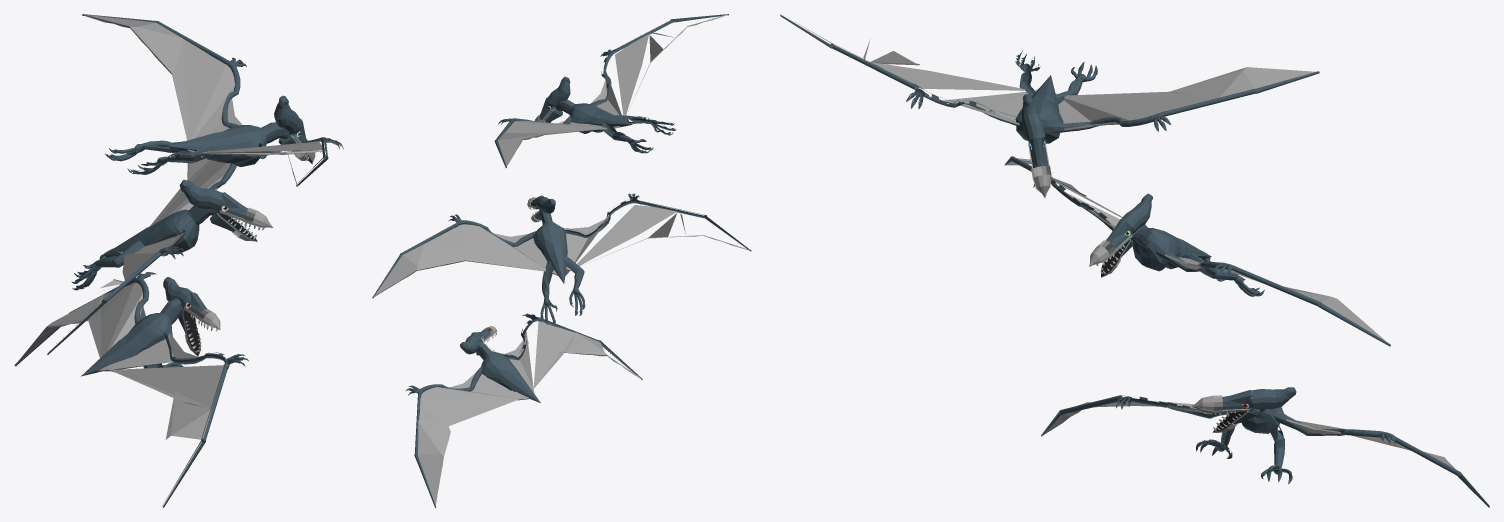
The model's file is pterosaur.glb.
3 views of the same model, side by side, from view 1: azimuth 30°, elevation 25°; view 2: azimuth 150°, elevation 25°; view 3: azimuth 270°, elevation 25° (orthographic). The views are drawn at different scales.
Visible parts, largest first — view 1: group1910756138, group1796103683, group1772441406, group1520437673, group334618860, group724360608, group853904661, group682116365, group1983426890, group1806545689, group1476467207, group585400887 (+7 smaller); view 2: group1796103683, group1983426890, group853904661, group1476467207, group1910756138, group1772441406, group682116365, group724360608, group334618860, group585400887, group1806545689, group1266664583 (+5 smaller); view 3: group1910756138, group1476467207, group1983426890, group1796103683, group1520437673, group2064465597, group585400887, group682116365, group334618860, group853904661.
Boxes of the visible parts, x1,y1,x2,y2 form: group1910756138: (82,14,246,140); group1796103683: (14,272,156,366); group1772441406: (109,364,227,408); group1520437673: (179,179,273,241); group334618860: (168,125,267,166); group724360608: (81,313,172,376); group853904661: (47,229,185,354); group682116365: (106,209,199,254); group1983426890: (150,154,236,225); group1806545689: (165,391,211,496); group1476467207: (187,137,343,186); group585400887: (261,95,315,164); group1796103683: (405,365,530,507); group1983426890: (372,214,557,298); group853904661: (562,193,751,276); group1476467207: (590,14,728,115); group1910756138: (494,115,620,167); group1772441406: (520,320,575,388); group682116365: (533,221,567,283); group724360608: (481,351,540,402); group334618860: (569,103,632,133); group585400887: (534,76,574,122); group1806545689: (557,332,640,378); group1266664583: (564,256,585,315); group1910756138: (1051,67,1319,133); group1476467207: (780,14,1038,125); group1983426890: (1155,247,1390,346); group1796103683: (1273,410,1489,507); group1520437673: (1089,193,1152,277); group2064465597: (1191,387,1296,414); group585400887: (1021,94,1051,198); group682116365: (1132,228,1211,271); group334618860: (1015,75,1063,143); group853904661: (1004,156,1133,240).
Size of the model in its own units: 4.79 by 6.08 by 8.44.
